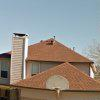Chimney: (9, 24, 29, 86)
